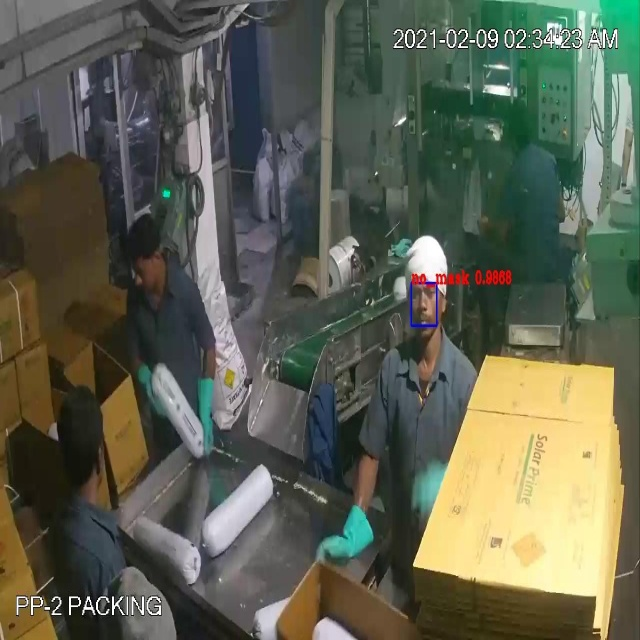Guantes: (309, 492, 376, 572), (126, 348, 179, 443), (190, 360, 227, 471)
